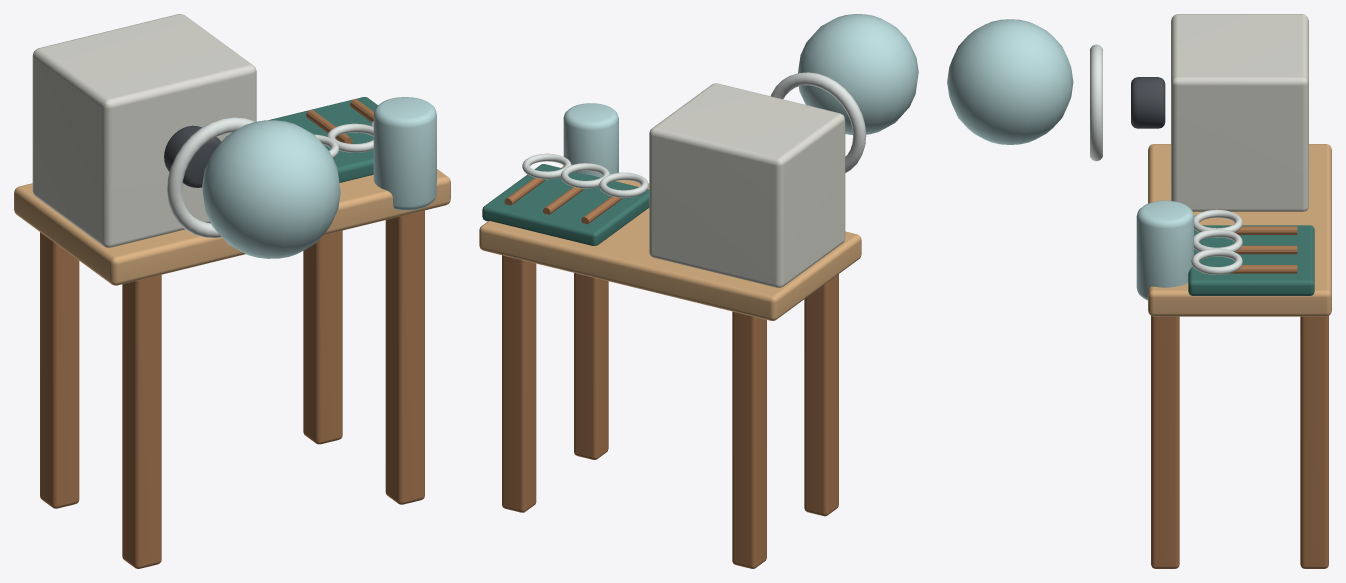
The model's file is game_bubble_station.glb.
3 views of the same model, side by side, from view 1: azimuth 30°, elevation 25°; view 2: azimuth 150°, elevation 25°; view 3: azimuth 270°, elevation 25° (orthographic). The views are drawn at different scales.
Visible parts, largest first — view 1: Tint.033, Bubble, Stand leg.003, Stand leg.005, Stand top, Stand leg.002, Stand leg.004, Bubble mix, Wand tray, Bubble ring, Machine nozzle, Wand loop.001; view 2: Tint.033, Stand top, Bubble, Stand leg.002, Stand leg.004, Stand leg.003, Wand tray, Stand leg.005, Bubble mix, Bubble ring, Wand loop, Wand loop.002 (+1 smaller); view 3: Tint.033, Bubble, Stand top, Stand leg.004, Stand leg.005, Wand tray, Bubble mix, Machine nozzle, Bubble ring, Wand loop.002, Wand loop.001, Wand loop (+3 smaller).
Boxes of the visible parts, left/top/right/bottom form: Tint.033: left=32, top=14, right=256, bottom=247; Bubble: left=202, top=120, right=340, bottom=258; Stand leg.003: left=122, top=275, right=161, bottom=568; Stand leg.005: left=385, top=210, right=424, bottom=504; Stand top: left=14, top=169, right=450, bottom=285; Stand leg.002: left=40, top=232, right=79, bottom=508; Stand leg.004: left=303, top=230, right=342, bottom=444; Bubble mix: left=373, top=97, right=436, bottom=210; Wand tray: left=268, top=97, right=377, bottom=182; Bubble ring: left=167, top=117, right=255, bottom=237; Machine nozzle: left=164, top=125, right=221, bottom=187; Wand loop.001: left=327, top=123, right=373, bottom=152; Tint.033: left=649, top=83, right=845, bottom=287; Stand top: left=479, top=166, right=861, bottom=320; Bubble: left=798, top=14, right=918, bottom=134; Stand leg.002: left=732, top=311, right=766, bottom=568; Stand leg.004: left=502, top=255, right=536, bottom=512; Stand leg.003: left=804, top=274, right=838, bottom=516; Wand tray: left=482, top=164, right=649, bottom=245; Stand leg.005: left=574, top=273, right=608, bottom=459; Bubble mix: left=563, top=103, right=618, bottom=177; Bubble ring: left=771, top=72, right=866, bottom=172; Wand loop: left=599, top=172, right=648, bottom=197; Wand loop.002: left=522, top=153, right=571, bottom=179; Tint.033: left=1171, top=14, right=1308, bottom=211; Bubble: left=947, top=19, right=1073, bottom=144; Stand top: left=1148, top=144, right=1331, bottom=316; Stand leg.004: left=1300, top=316, right=1328, bottom=568; Stand leg.005: left=1151, top=316, right=1179, bottom=568; Wand tray: left=1188, top=225, right=1314, bottom=295; Bubble mix: left=1136, top=200, right=1193, bottom=300; Machine nozzle: left=1131, top=77, right=1165, bottom=128; Bubble ring: left=1090, top=44, right=1102, bottom=161; Wand loop.002: left=1191, top=248, right=1242, bottom=274; Wand loop.001: left=1194, top=229, right=1242, bottom=251; Wand loop: left=1194, top=209, right=1242, bottom=232.
Bounding box in the file's own units: 0.635 × 0.85 × 0.67.
